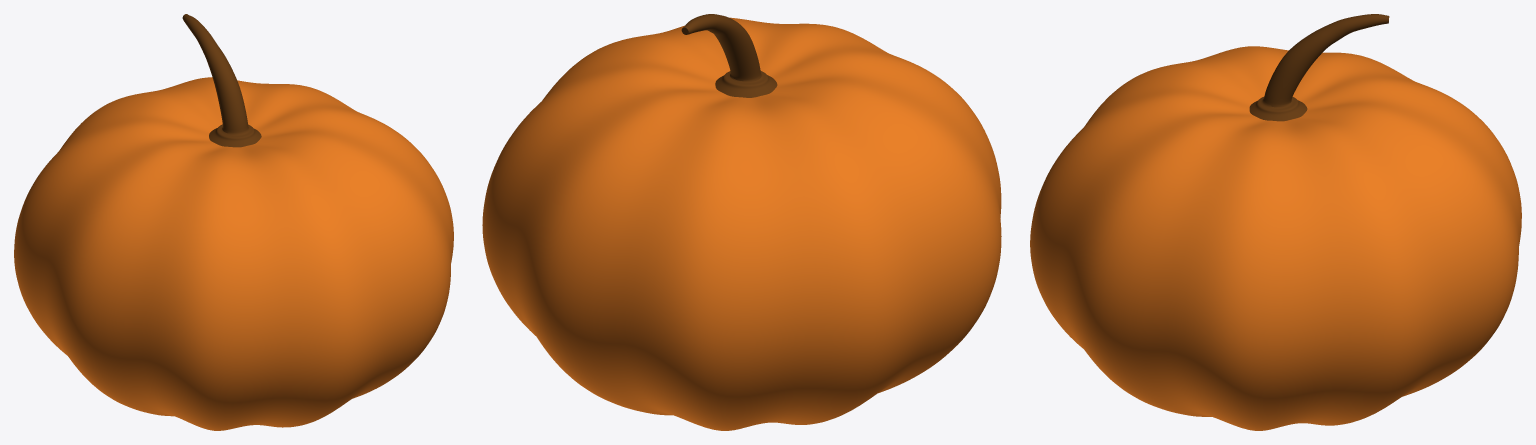
Rendered from uploads_files_4241762_pumpkin(1).glb.
3 renders of one model, left to right at view 1: azimuth 30°, elevation 25°; view 2: azimuth 150°, elevation 25°; view 3: azimuth 270°, elevation 25°, orthographic. The views are drawn at different scales.
Visible parts, largest first — view 1: pumpkin; view 2: pumpkin; view 3: pumpkin.
Part boxes in pixels (x1,y1,x2,y2): pumpkin: (14, 14, 453, 430); pumpkin: (482, 14, 1001, 430); pumpkin: (1030, 14, 1521, 430).
Size of the model in its own units: 2.09 by 1.82 by 2.12.
1 material, 1 textured.
